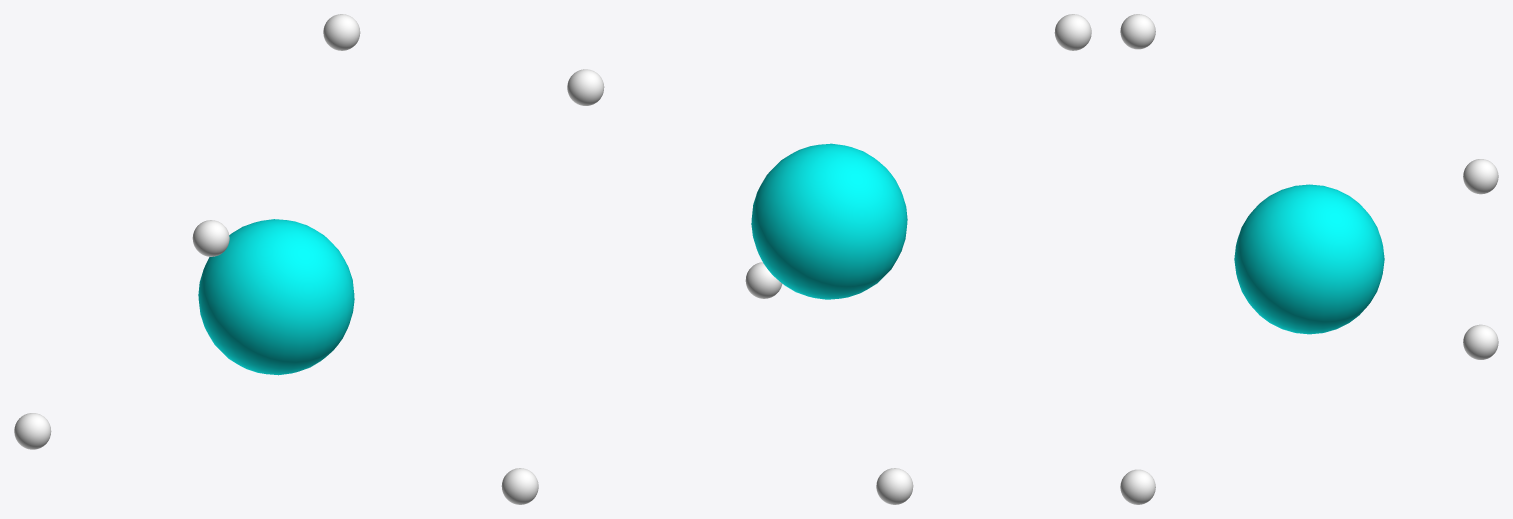
File: Artifact.fbx
The picture shows the model from 3 angles, left to right: view 1: azimuth 30°, elevation 25°; view 2: azimuth 150°, elevation 25°; view 3: azimuth 270°, elevation 25°; orthographic projection. The views are drawn at different scales.
Visible parts, largest first — view 1: MoonCentre, Moon1, Moon3, Moon5, Moon7; view 2: MoonCentre, Moon5, Moon3, Moon7, Moon1; view 3: MoonCentre, Moon1, Moon3, Moon7, Moon5.
Part boxes in pixels (left/top/right/bottom): MoonCentre: left=198, top=219, right=354, bottom=375; Moon1: left=501, top=468, right=538, bottom=504; Moon3: left=192, top=220, right=229, bottom=256; Moon5: left=323, top=14, right=360, bottom=50; Moon7: left=14, top=413, right=51, bottom=449; MoonCentre: left=751, top=143, right=907, bottom=299; Moon5: left=567, top=69, right=604, bottom=105; Moon3: left=1054, top=14, right=1091, bottom=50; Moon7: left=876, top=468, right=913, bottom=504; Moon1: left=745, top=262, right=782, bottom=298; MoonCentre: left=1234, top=184, right=1384, bottom=334; Moon1: left=1120, top=469, right=1155, bottom=504; Moon3: left=1120, top=14, right=1155, bottom=49; Moon7: left=1463, top=324, right=1498, bottom=359; Moon5: left=1463, top=159, right=1498, bottom=194.
Bounding box in the file's own units: 0.7727 × 0.7727 × 0.7727.
Materials: 2 (1 with a texture image).
